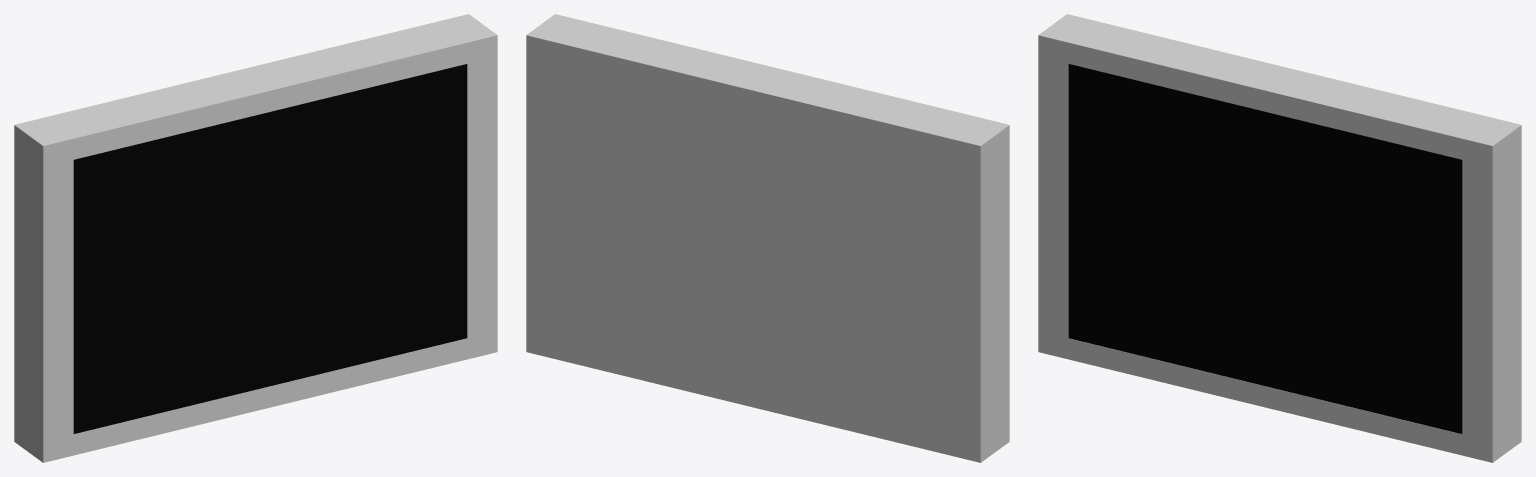
3 renders of one model, left to right at view 1: azimuth 30°, elevation 25°; view 2: azimuth 150°, elevation 25°; view 3: azimuth 330°, elevation 25°, orthographic.
Visible parts, largest first — view 1: Cube.001, Cube; view 2: Cube; view 3: Cube.001, Cube.
Part boxes in pixels (box(x1,y1,x2,y2)): Cube.001: box(73, 64, 467, 433); Cube: box(14, 14, 497, 462); Cube: box(526, 14, 1009, 462); Cube.001: box(1068, 64, 1462, 433); Cube: box(1038, 14, 1521, 462).
Size of the model in its own units: 2.58 by 1.72 by 0.2852.
Materials: 2 (1 with a texture image).
